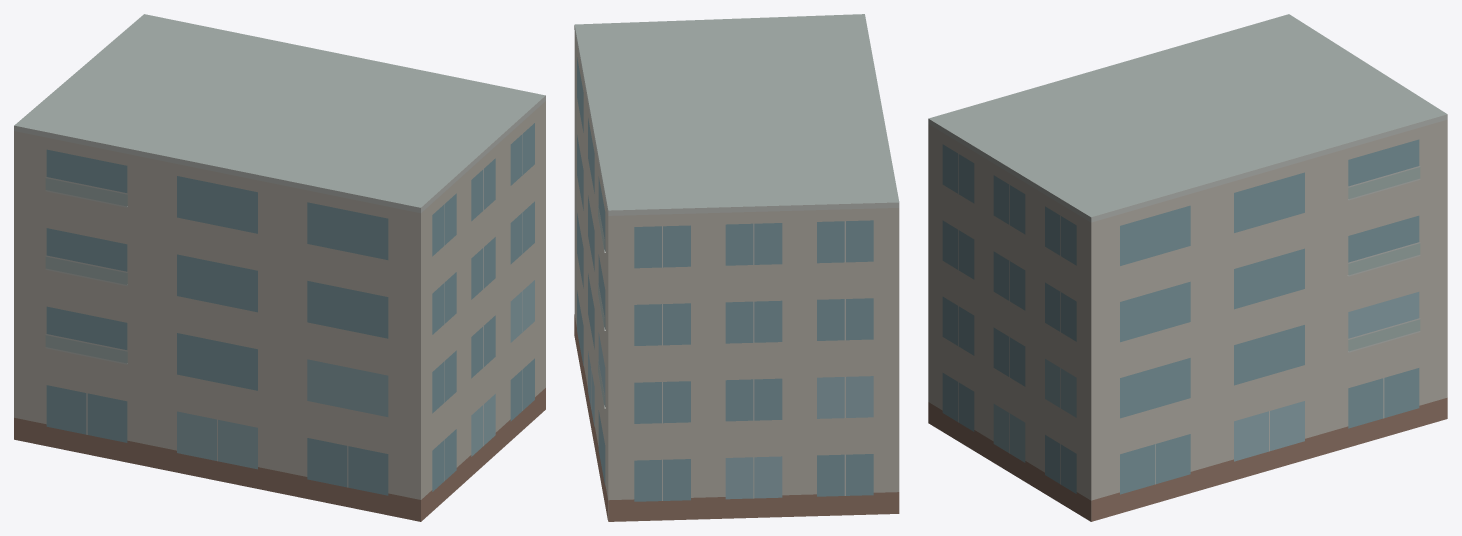
Rendered from survey-upis-32781440.glb.
The picture shows the model from 3 angles, left to right: view 1: azimuth 30°, elevation 25°; view 2: azimuth 150°, elevation 25°; view 3: azimuth 270°, elevation 25°; orthographic projection. The views are drawn at different scales.
Visible parts, largest first — view 1: survey-upis-32781440.tmp; view 2: survey-upis-32781440.tmp; view 3: survey-upis-32781440.tmp.
Boxes of the visible parts, bbox=[...] form: survey-upis-32781440.tmp: bbox=[14, 14, 545, 521]; survey-upis-32781440.tmp: bbox=[574, 14, 899, 521]; survey-upis-32781440.tmp: bbox=[928, 14, 1447, 521].
Size of the model in its own units: 20.2 by 14.1 by 21.8.
